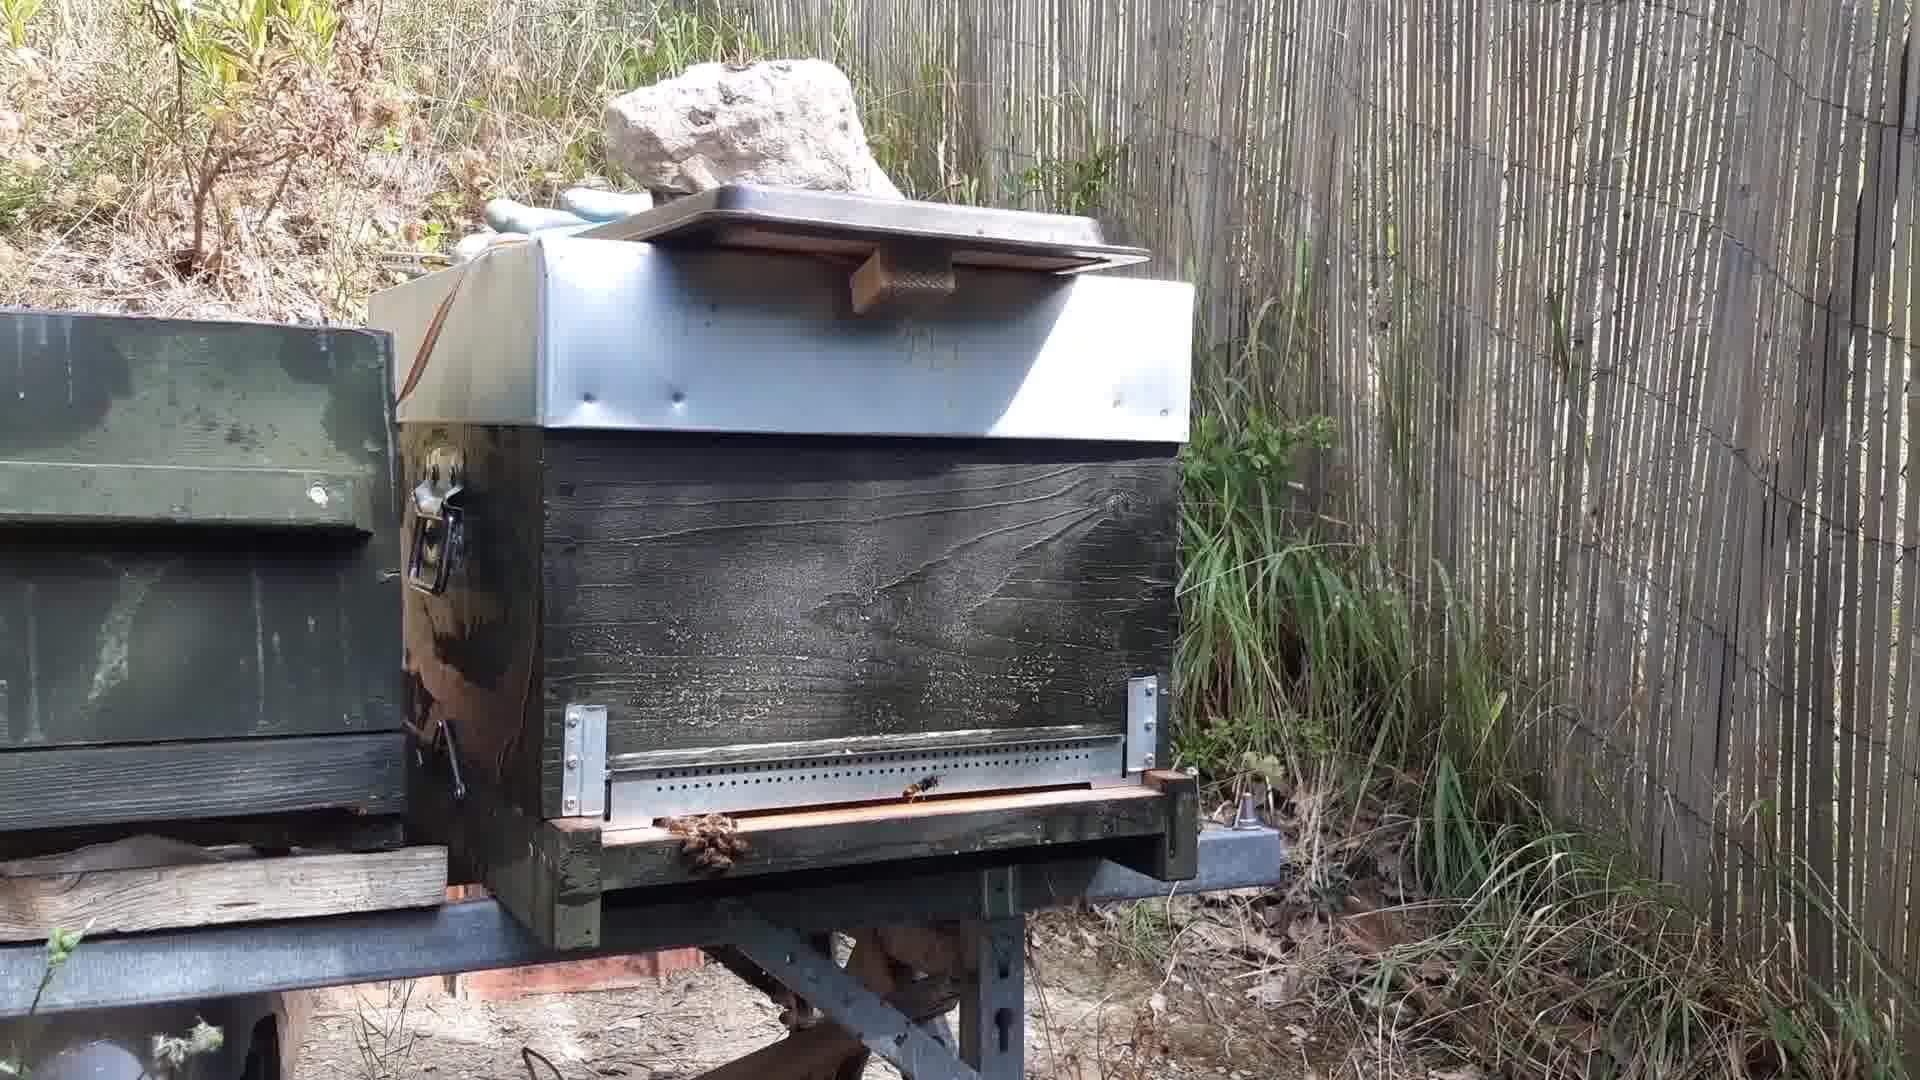bee: (670, 800, 753, 877)
hornet: (901, 771, 945, 808)
